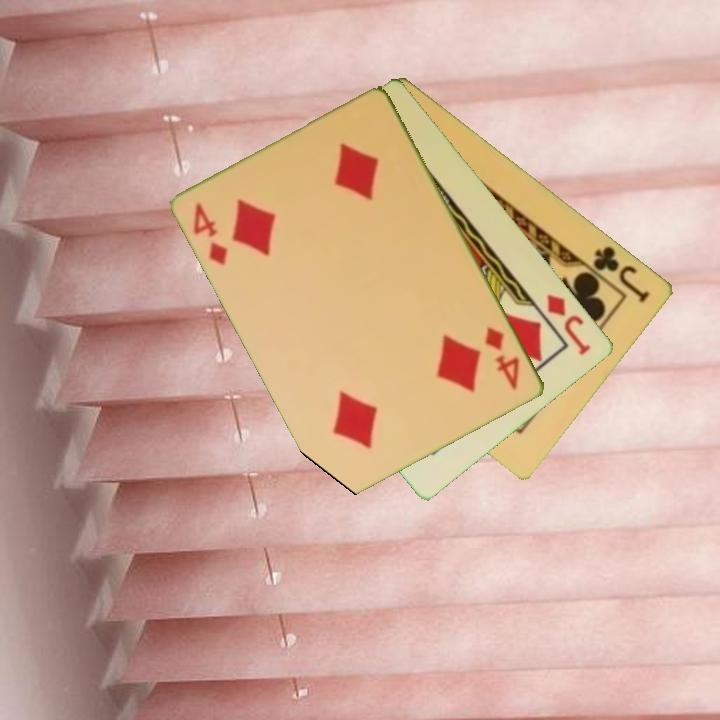4d: (481, 323, 524, 393), (190, 199, 232, 269)
Jc: (590, 242, 653, 306)
Jd: (543, 290, 595, 359)
